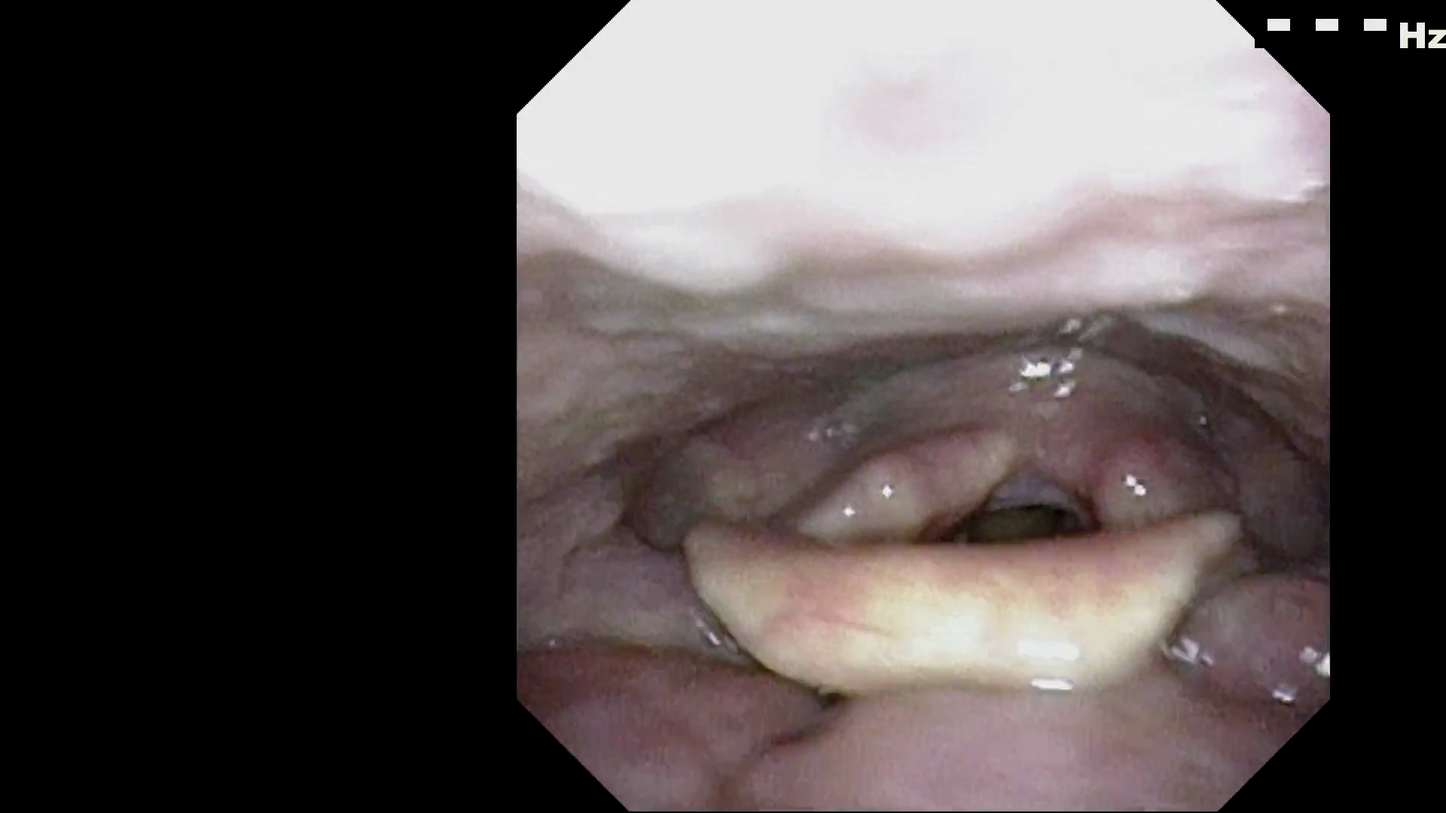epiglottis: (663, 558, 1204, 697)
